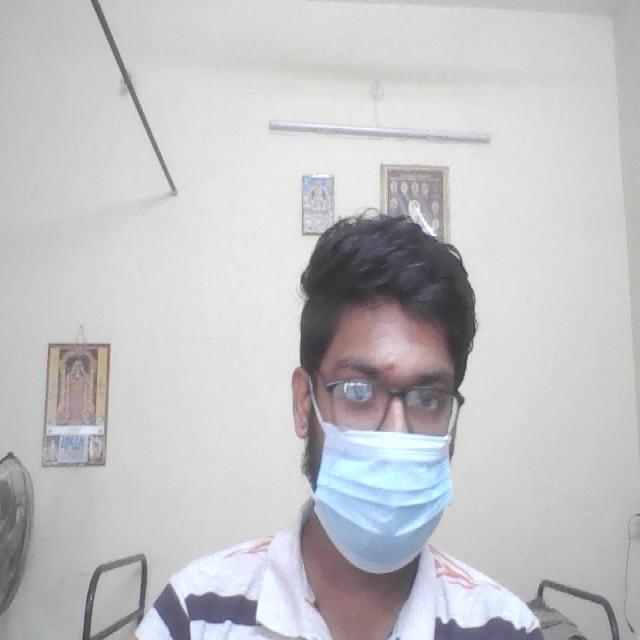Focused: (284, 298, 471, 551)
